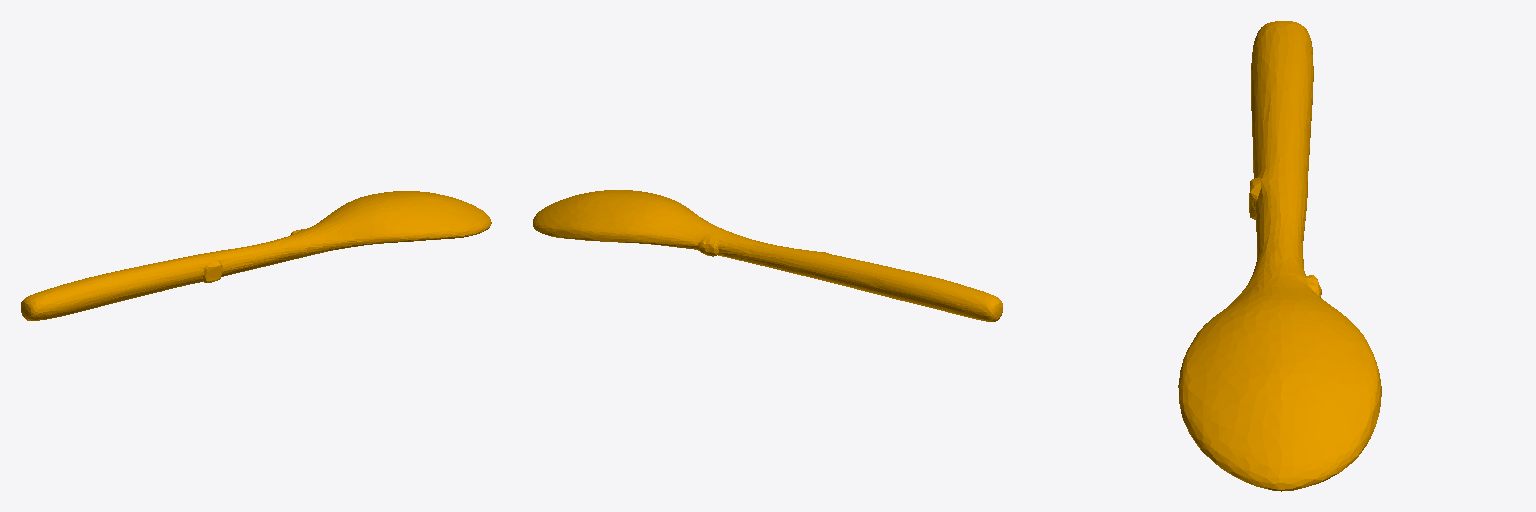
The robot description file, URDF, robot "wooden_spoon":
<?xml version='1.0' encoding='utf-8'?>
<robot name="wooden_spoon">
  <link name="object">
    <inertial>
      <origin xyz="-0.00012454816576966976 -0.00016239089796627617 0.0004171484889181198" rpy="0 0 0" />
      <mass value="0.1" />
      <inertia ixx="1.5924904818150586e-05" ixy="-3.6892073078100043e-07" ixz="-3.944123835447441e-06" iyy="0.0008140136007663359" iyz="1.2274437360956393e-07" izz="0.0008235149603786241" />
    </inertial>
    <visual>
      <geometry>
        <mesh filename="wooden_spoon_visual.obj" />
      </geometry>
    </visual>
    <collision>
      <geometry>
        <mesh filename="wooden_spoon_collision/part_000.obj" />
      </geometry>
    </collision>
    <collision>
      <geometry>
        <mesh filename="wooden_spoon_collision/part_001.obj" />
      </geometry>
    </collision>
    <collision>
      <geometry>
        <mesh filename="wooden_spoon_collision/part_002.obj" />
      </geometry>
    </collision>
    <collision>
      <geometry>
        <mesh filename="wooden_spoon_collision/part_003.obj" />
      </geometry>
    </collision>
    <collision>
      <geometry>
        <mesh filename="wooden_spoon_collision/part_004.obj" />
      </geometry>
    </collision>
    <collision>
      <geometry>
        <mesh filename="wooden_spoon_collision/part_005.obj" />
      </geometry>
    </collision>
    <collision>
      <geometry>
        <mesh filename="wooden_spoon_collision/part_006.obj" />
      </geometry>
    </collision>
    <collision>
      <geometry>
        <mesh filename="wooden_spoon_collision/part_007.obj" />
      </geometry>
    </collision>
    <collision>
      <geometry>
        <mesh filename="wooden_spoon_collision/part_008.obj" />
      </geometry>
    </collision>
    <collision>
      <geometry>
        <mesh filename="wooden_spoon_collision/part_009.obj" />
      </geometry>
    </collision>
    <collision>
      <geometry>
        <mesh filename="wooden_spoon_collision/part_010.obj" />
      </geometry>
    </collision>
    <collision>
      <geometry>
        <mesh filename="wooden_spoon_collision/part_011.obj" />
      </geometry>
    </collision>
    <collision>
      <geometry>
        <mesh filename="wooden_spoon_collision/part_012.obj" />
      </geometry>
    </collision>
    <collision>
      <geometry>
        <mesh filename="wooden_spoon_collision/part_013.obj" />
      </geometry>
    </collision>
    <collision>
      <geometry>
        <mesh filename="wooden_spoon_collision/part_014.obj" />
      </geometry>
    </collision>
    <collision>
      <geometry>
        <mesh filename="wooden_spoon_collision/part_015.obj" />
      </geometry>
    </collision>
    <collision>
      <geometry>
        <mesh filename="wooden_spoon_collision/part_016.obj" />
      </geometry>
    </collision>
    <collision>
      <geometry>
        <mesh filename="wooden_spoon_collision/part_017.obj" />
      </geometry>
    </collision>
    <collision>
      <geometry>
        <mesh filename="wooden_spoon_collision/part_018.obj" />
      </geometry>
    </collision>
    <collision>
      <geometry>
        <mesh filename="wooden_spoon_collision/part_019.obj" />
      </geometry>
    </collision>
    <collision>
      <geometry>
        <mesh filename="wooden_spoon_collision/part_020.obj" />
      </geometry>
    </collision>
    <collision>
      <geometry>
        <mesh filename="wooden_spoon_collision/part_021.obj" />
      </geometry>
    </collision>
    <collision>
      <geometry>
        <mesh filename="wooden_spoon_collision/part_022.obj" />
      </geometry>
    </collision>
    <collision>
      <geometry>
        <mesh filename="wooden_spoon_collision/part_023.obj" />
      </geometry>
    </collision>
    <collision>
      <geometry>
        <mesh filename="wooden_spoon_collision/part_024.obj" />
      </geometry>
    </collision>
    <collision>
      <geometry>
        <mesh filename="wooden_spoon_collision/part_025.obj" />
      </geometry>
    </collision>
  </link>
</robot>

--- What the picture shows (computed from the rendered views, not written in the file) ---
The picture shows the robot from 3 angles, left to right: view 1: azimuth 30°, elevation 25°; view 2: azimuth 150°, elevation 25°; view 3: azimuth 270°, elevation 25°; orthographic projection.
Model wooden_spoon with 1 links and 0 joints (none), rooted at object, posed all joints at 0.
Visible links, largest first — view 1: object; view 2: object; view 3: object.
Link boxes in pixels (box(x1,y1,x2,y2)): object: box(21, 191, 491, 320); object: box(533, 190, 1002, 321); object: box(1178, 21, 1381, 491).
Size in the robot's own frame: 0.308 by 0.0629 by 0.0275 metres.
1 mesh visuals loaded from 1 distinct referenced files (1 OBJ).
